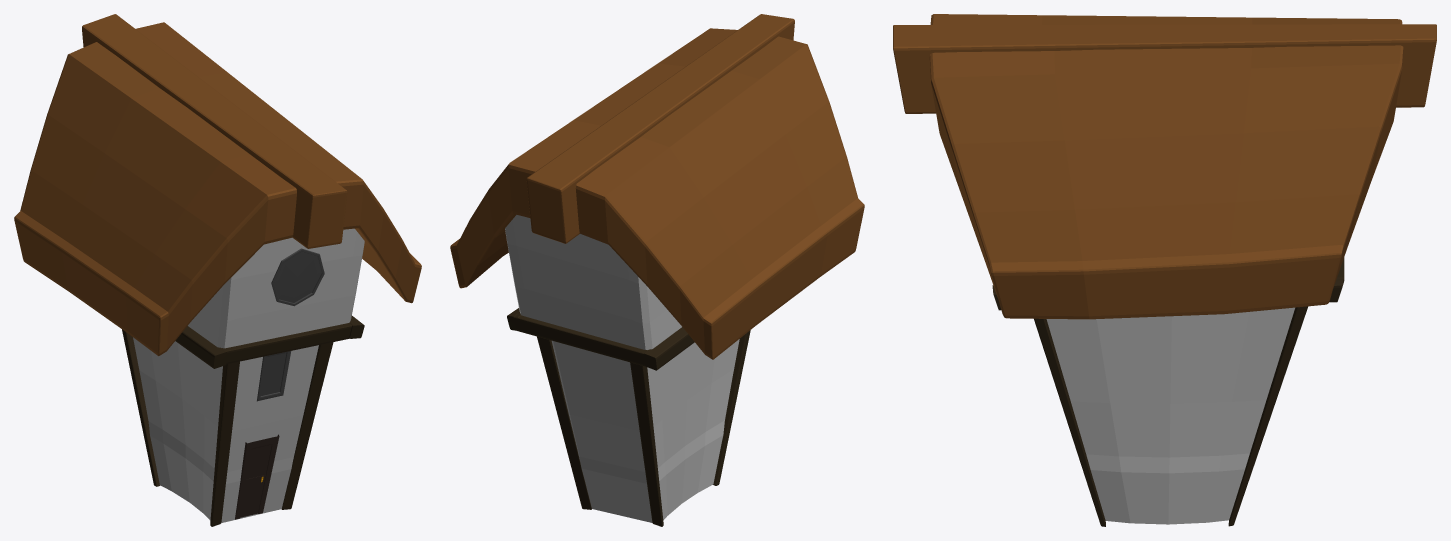
Rendered from house_a.fbx.
3 views of the same model, side by side, from view 1: azimuth 30°, elevation 25°; view 2: azimuth 150°, elevation 25°; view 3: azimuth 270°, elevation 25° (orthographic). The views are drawn at different scales.
Parts seen in each view (by area): view 1: house_a; view 2: house_a; view 3: house_a.
Boxes of the visible parts, left/top/right/bottom form: house_a: left=14, top=14, right=421, bottom=526; house_a: left=450, top=14, right=864, bottom=526; house_a: left=893, top=14, right=1436, bottom=526.
Size of the model in its own units: 102 by 145 by 152.
